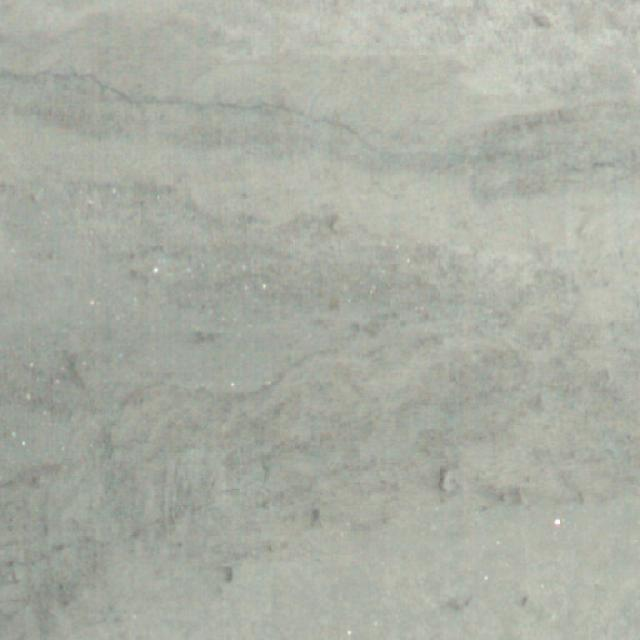Transverse: (0, 46, 640, 192)
